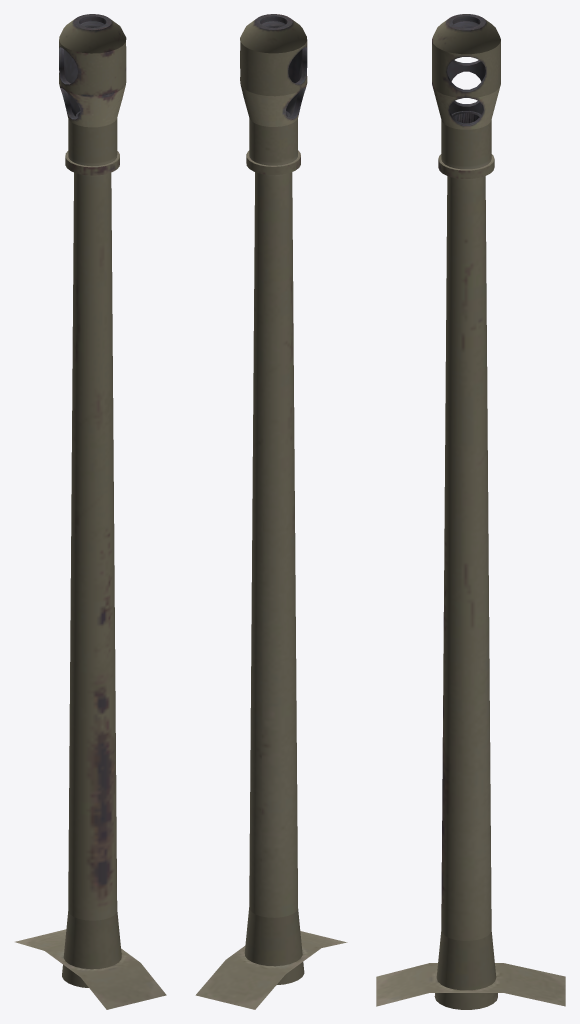
The model's file is Gun_02.glb.
The picture shows the model from 3 angles, left to right: view 1: azimuth 30°, elevation 25°; view 2: azimuth 150°, elevation 25°; view 3: azimuth 270°, elevation 25°; orthographic projection. The views are drawn at different scales.
Parts seen in each view (by area): view 1: set_0_group_0; view 2: set_0_group_0; view 3: set_0_group_0.
Boxes of the visible parts, x1=… form: set_0_group_0: x1=15, y1=14, x2=166, y2=1009; set_0_group_0: x1=195, y1=14, x2=347, y2=1009; set_0_group_0: x1=376, y1=14, x2=565, y2=1009.
Size of the model in its own units: 0.1893 by 2.87 by 0.5062.
1 material, 1 textured.
